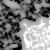node 1: (15, 17, 50, 50)
